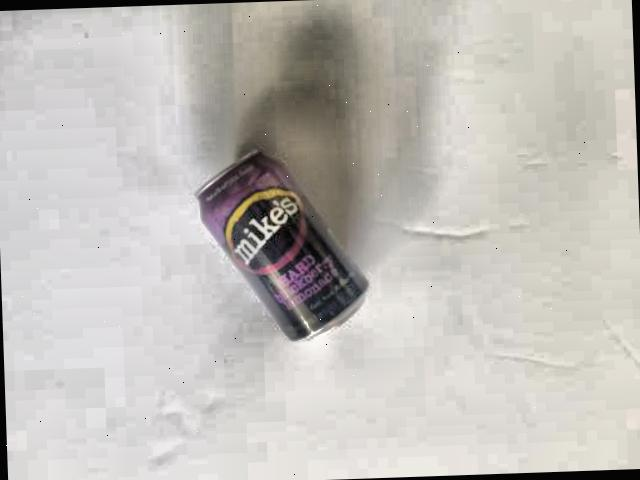Bottles: (185, 138, 378, 353)
